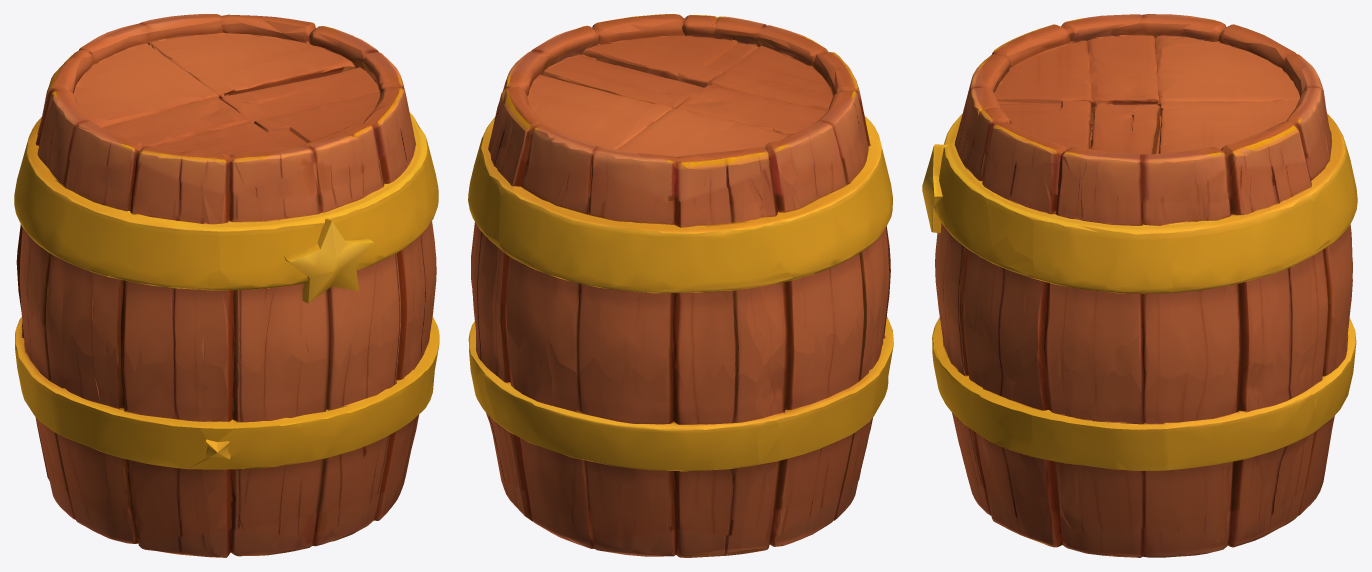
The model's file is barrel.glb.
3 renders of one model, left to right at view 1: azimuth 30°, elevation 25°; view 2: azimuth 150°, elevation 25°; view 3: azimuth 270°, elevation 25°, orthographic.
Bounding box in the file's own units: 1.85 × 1.9 × 1.88.
Materials: 1 (1 with a texture image).
